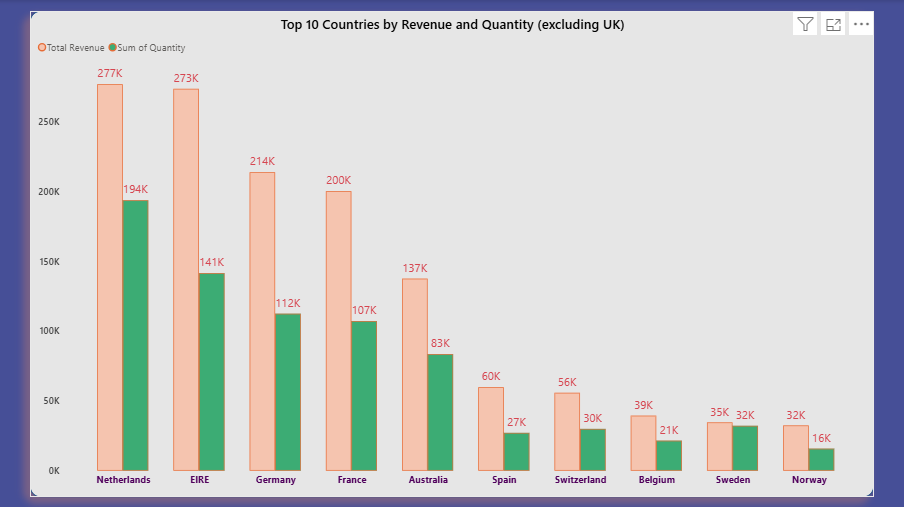

The page's visual inventory and layout, read from the dashboard file:
{"tool":"powerbi","page":{"name":"Country-level revenue comparison","canvas":[1280,720],"ordinal":1},"visuals":[{"type":"clusteredColumnChart","title":"Top 10 Countries by Revenue and Quantity (excluding UK) ","fields":{"Category":["Online Retail.Country"],"Y":["Online Retail.Total Revenue","Sum(Online Retail.Quantity)"]},"box":[42.5,15.6,1196.2,688.8],"z":0}]}

Visuals, with their boxes in screenshot pixels (x1, y1, x2, y2), scaled from the page's 1280x720 canvas onto the 904x507 screenshot:
"Top 10 Countries by Revenue and Quantity (excluding UK) " clusteredColumnChart: pyautogui.locateOnScreen(30, 11, 875, 496)
